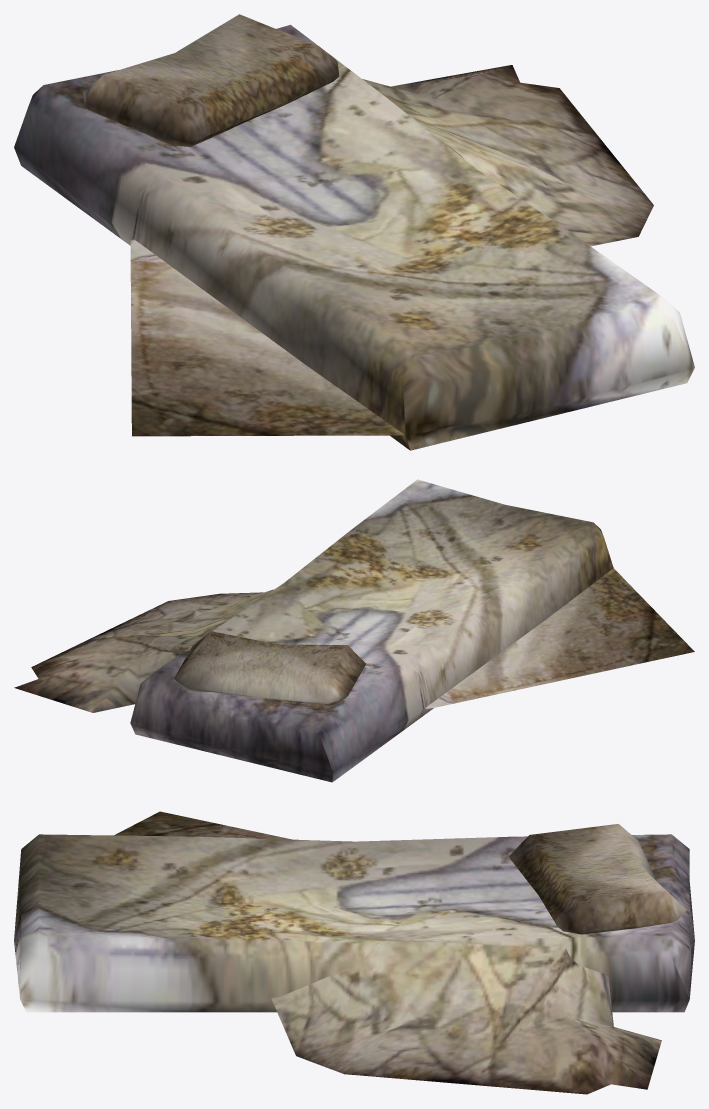
File: Bed01.glb
3 renders of one model, top to bottom at view 1: azimuth 30°, elevation 25°; view 2: azimuth 150°, elevation 25°; view 3: azimuth 270°, elevation 25°, orthographic. The views are drawn at different scales.
Parts seen in each view (by area): view 1: _Bed01; view 2: _Bed01; view 3: _Bed01.
Boxes of the visible parts, left/top/right/bottom form: _Bed01: left=14, top=14, right=694, bottom=450; _Bed01: left=14, top=479, right=694, bottom=782; _Bed01: left=14, top=811, right=694, bottom=1094.
Bounding box in the file's own units: 2.45 × 0.3751 × 2.51.
Materials: 1 (1 with a texture image).
